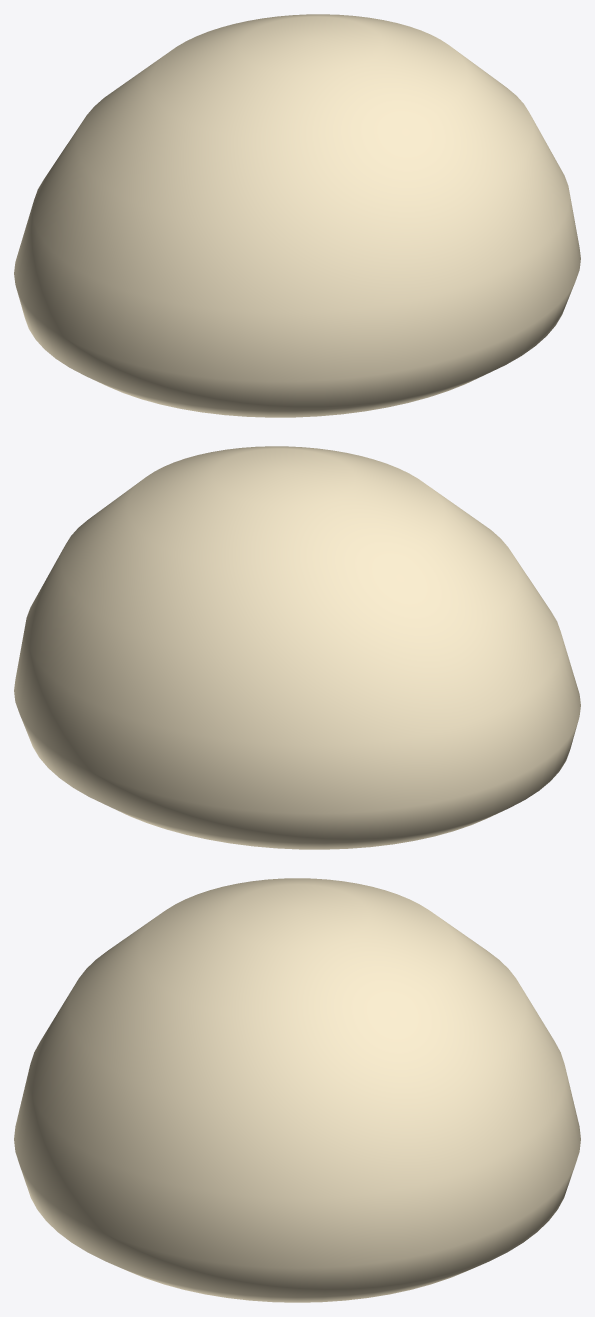
Rendered from capsule-coconut.glb.
The picture shows the model from 3 angles, top to bottom: view 1: azimuth 30°, elevation 25°; view 2: azimuth 150°, elevation 25°; view 3: azimuth 270°, elevation 25°; orthographic projection. The views are drawn at different scales.
Visible parts, largest first — view 1: capsule_body; view 2: capsule_body; view 3: capsule_body.
Part boxes in pixels (x1,y1,x2,y2): capsule_body: [14, 14, 580, 417]; capsule_body: [14, 446, 580, 849]; capsule_body: [14, 878, 580, 1302].
Size of the model in its own units: 0.34 by 0.185 by 0.3162.
